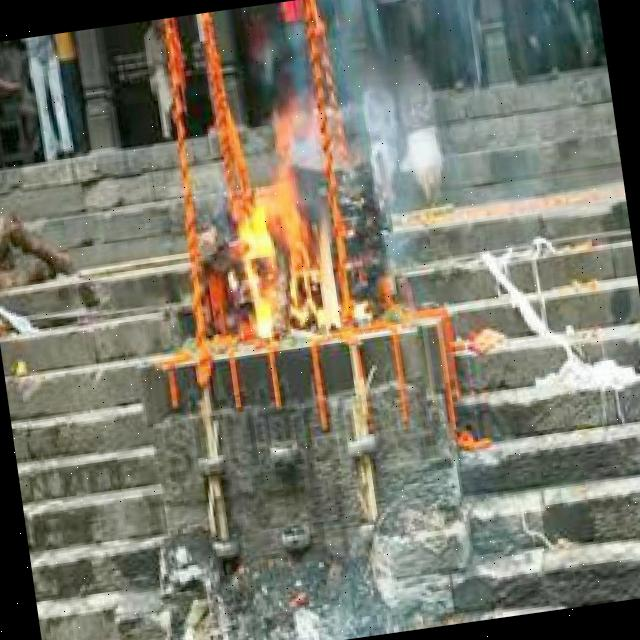fire: (222, 172, 351, 344)
